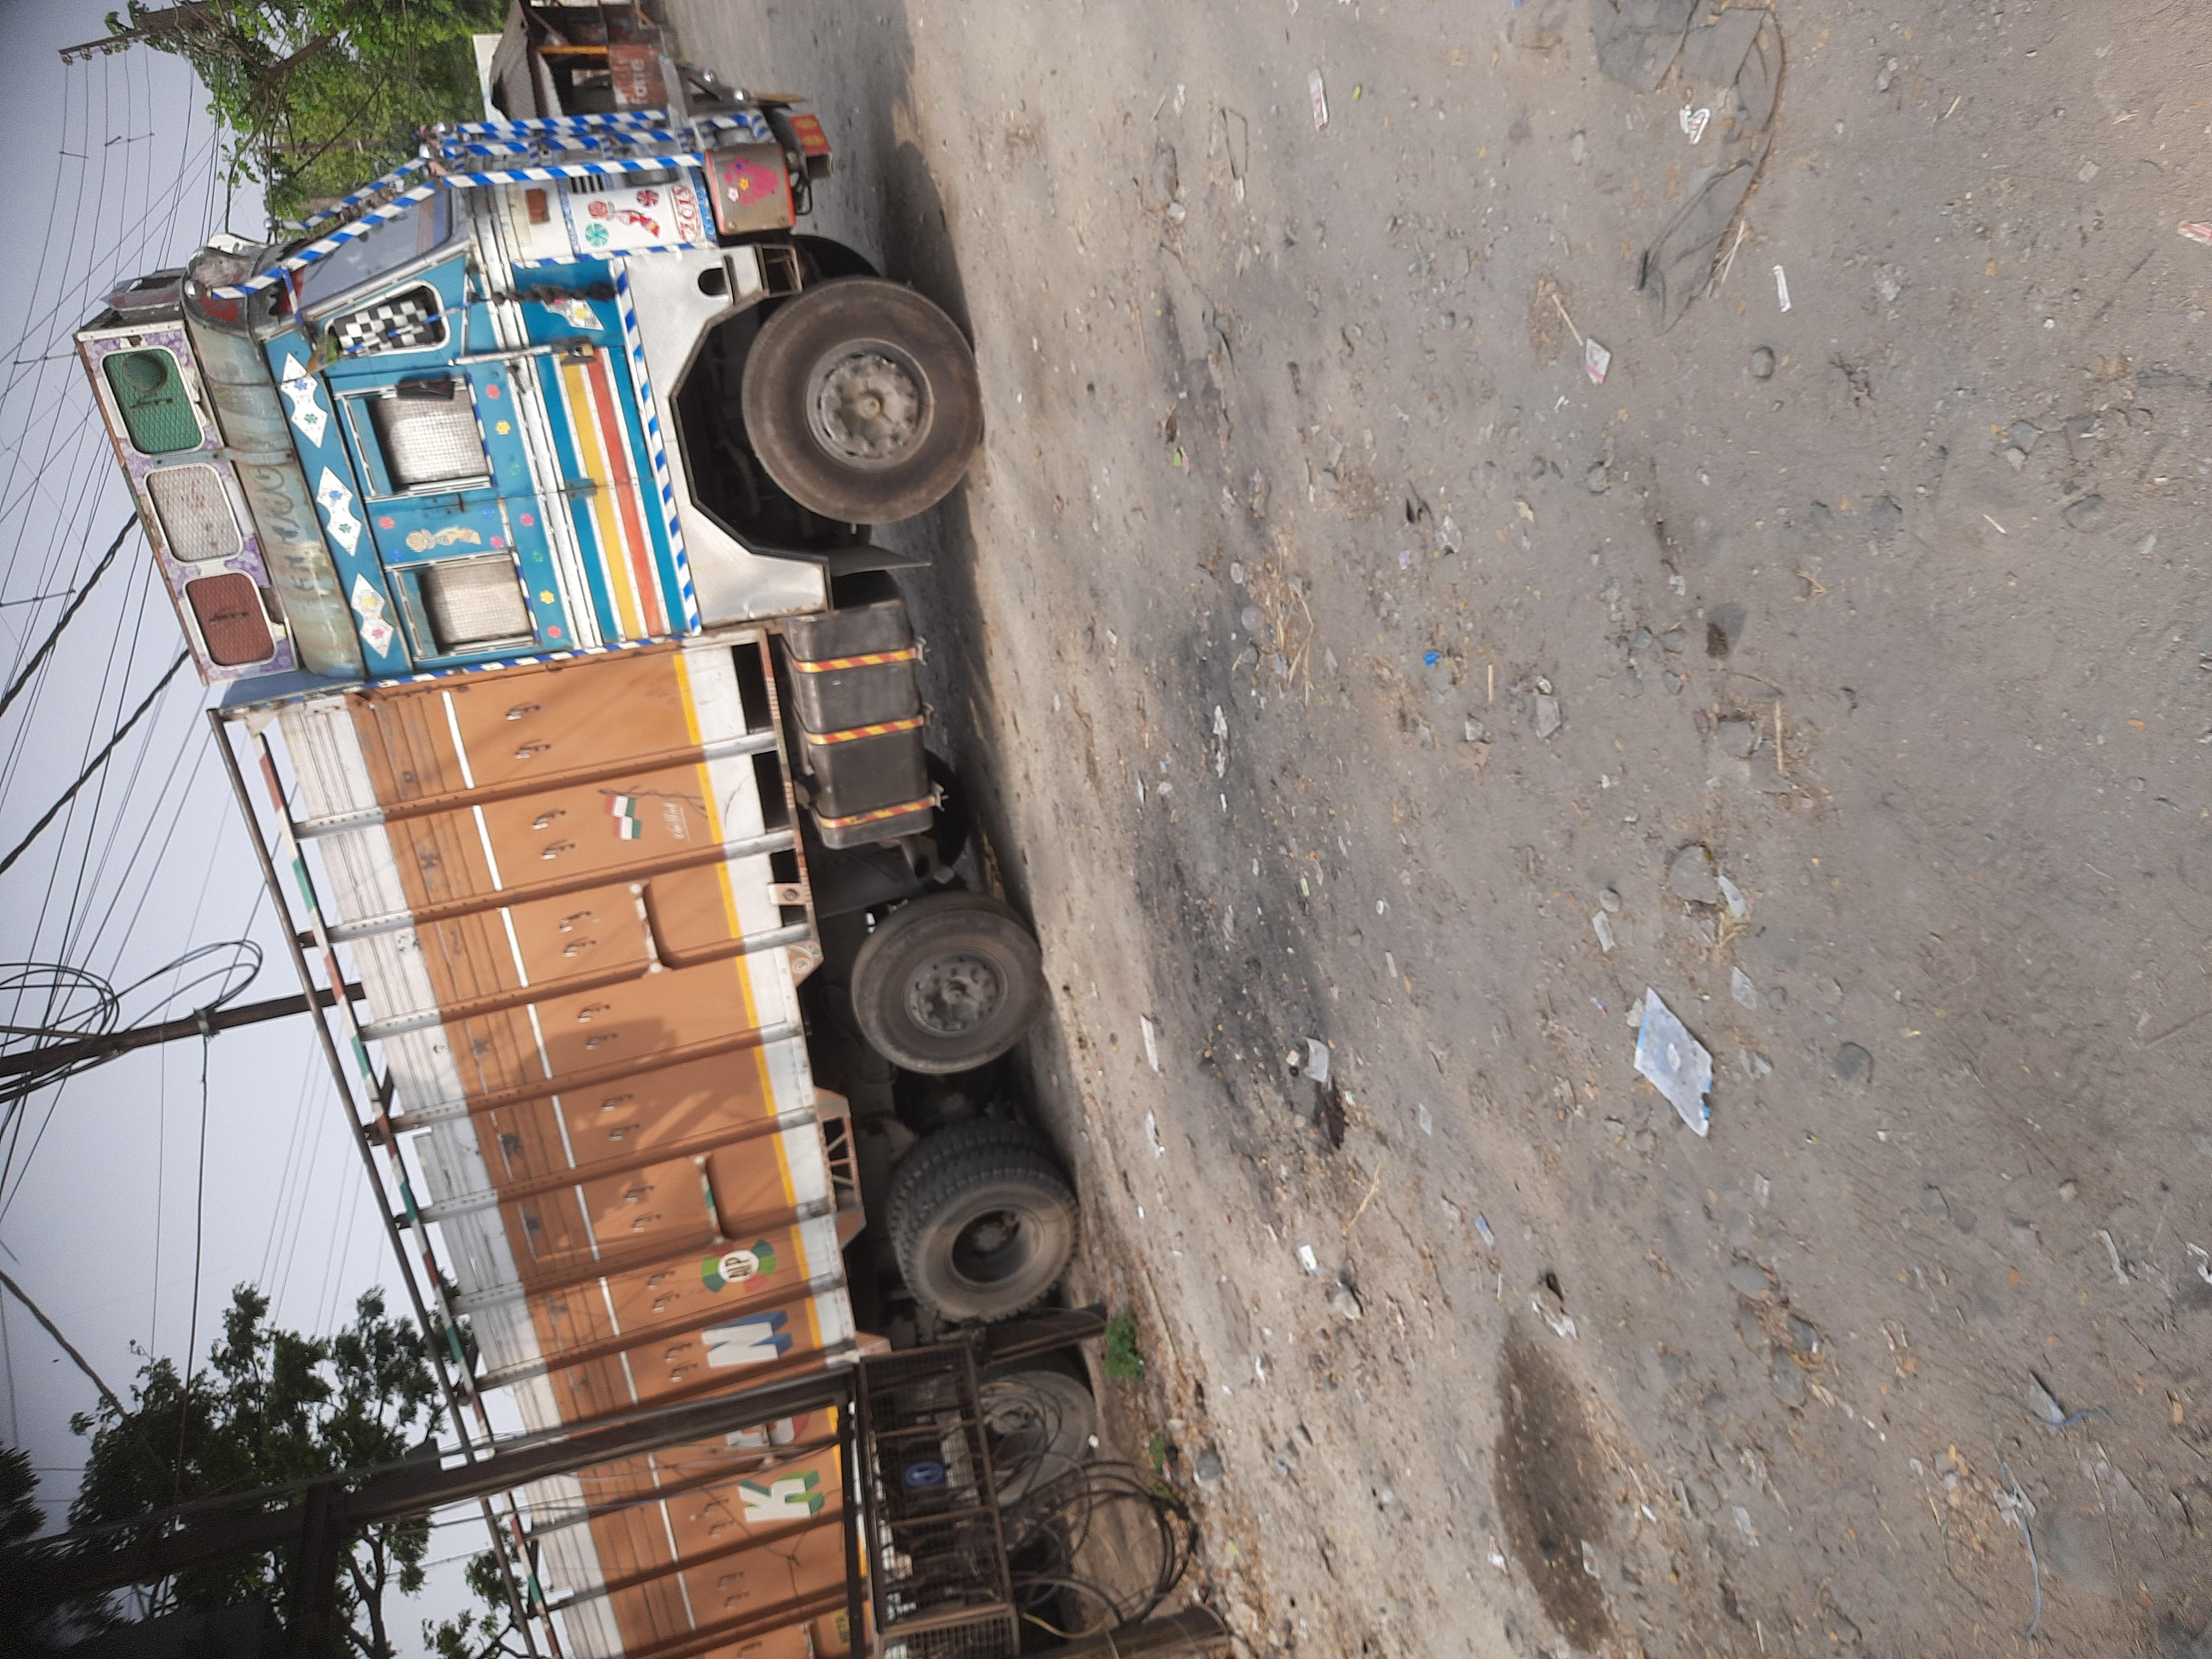Truck: (0, 126, 2057, 774)
